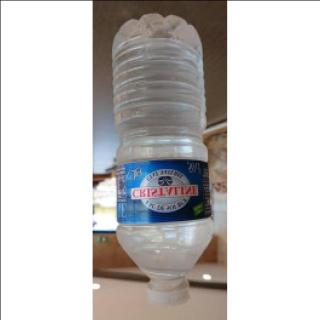Anorganik: (112, 11, 206, 308)
